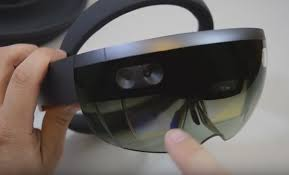hololens: (36, 19, 269, 156)
